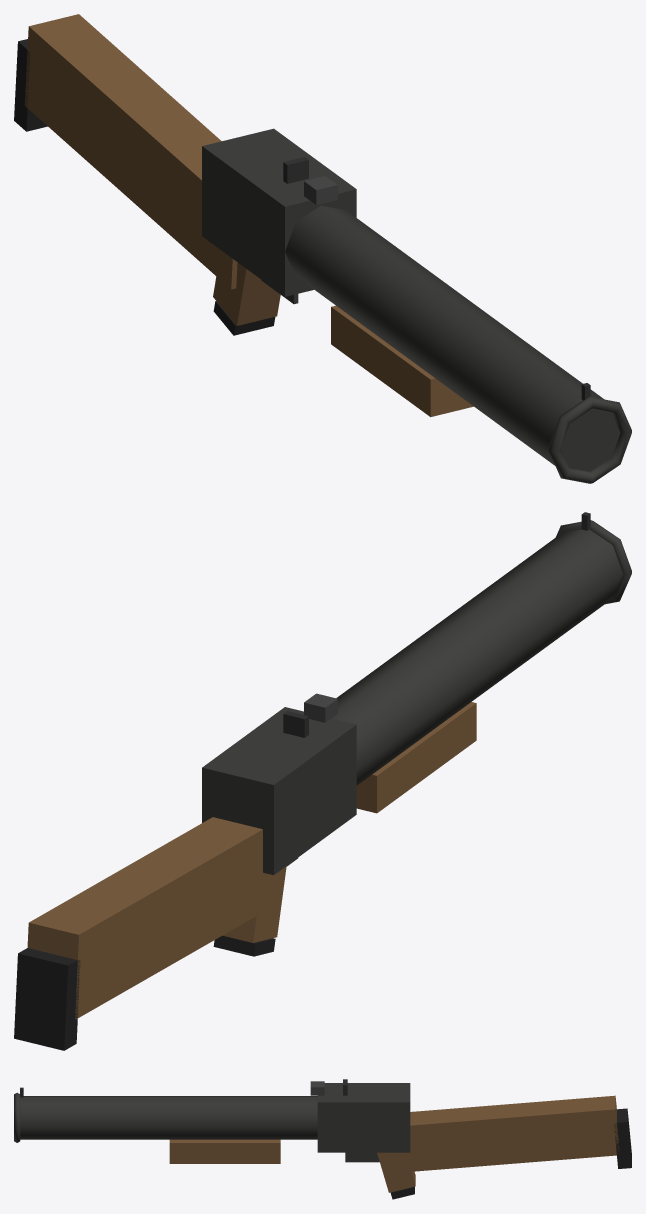
3 renders of one model, top to bottom at view 1: azimuth 30°, elevation 25°; view 2: azimuth 150°, elevation 25°; view 3: azimuth 270°, elevation 25°, orthographic. The views are drawn at different scales.
Visible parts, largest first — view 1: Mesh_Barrel, Mesh_Stock, Mesh_Receiver, Mesh_Handguard, Mesh_MuzzleRing, Mesh_PistolGrip, Mesh_Buttpad, Mesh_BarrelLatch, Mesh_GripCap; view 2: Mesh_Barrel, Mesh_Stock, Mesh_Receiver, Mesh_Buttpad, Mesh_Handguard, Mesh_PistolGrip, Mesh_MuzzleRing, Mesh_GripCap, Mesh_BarrelLatch; view 3: Mesh_Barrel, Mesh_Stock, Mesh_Receiver, Mesh_Handguard, Mesh_Buttpad, Mesh_PistolGrip, Mesh_TriggerGuard, Mesh_MuzzleRing, Mesh_BarrelLatch, Mesh_GripCap.
Part boxes in pixels (x1=…): Mesh_Barrel: x1=285, y1=205, x2=620, y2=471; Mesh_Stock: x1=24, y1=14, x2=237, y2=289; Mesh_Receiver: x1=202, y1=128, x2=356, y2=296; Mesh_Handguard: x1=331, y1=305, x2=473, y2=417; Mesh_MuzzleRing: x1=548, y1=397, x2=631, y2=483; Mesh_PistolGrip: x1=213, y1=262, x2=280, y2=325; Mesh_Buttpad: x1=14, y1=39, x2=47, y2=131; Mesh_BarrelLatch: x1=304, y1=176, x2=337, y2=204; Mesh_GripCap: x1=213, y1=301, x2=275, y2=335; Mesh_Barrel: x1=332, y1=529, x2=623, y2=785; Mesh_Stock: x1=27, y1=817, x2=282, y2=1019; Mesh_Receiver: x1=202, y1=707, x2=356, y2=875; Mesh_Buttpad: x1=14, y1=948, x2=80, y2=1050; Mesh_Handguard: x1=356, y1=702, x2=476, y2=813; Mesh_PistolGrip: x1=223, y1=866, x2=286, y2=942; Mesh_MuzzleRing: x1=556, y1=520, x2=631, y2=604; Mesh_GripCap: x1=213, y1=935, x2=275, y2=956; Mesh_BarrelLatch: x1=304, y1=693, x2=337, y2=722; Mesh_Barrel: x1=20, y1=1096, x2=317, y2=1139; Mesh_Stock: x1=387, y1=1095, x2=619, y2=1173; Mesh_Receiver: x1=317, y1=1083, x2=410, y2=1152; Mesh_Handguard: x1=169, y1=1139, x2=280, y2=1163; Mesh_Buttpad: x1=614, y1=1108, x2=631, y2=1168; Mesh_PistolGrip: x1=377, y1=1152, x2=415, y2=1192; Mesh_TriggerGuard: x1=345, y1=1152, x2=379, y2=1162; Mesh_MuzzleRing: x1=14, y1=1092, x2=20, y2=1142; Mesh_BarrelLatch: x1=310, y1=1081, x2=324, y2=1095; Mesh_GripCap: x1=390, y1=1186, x2=414, y2=1199.
Size of the model in its own units: 0.058 by 0.1336 by 0.6683.
